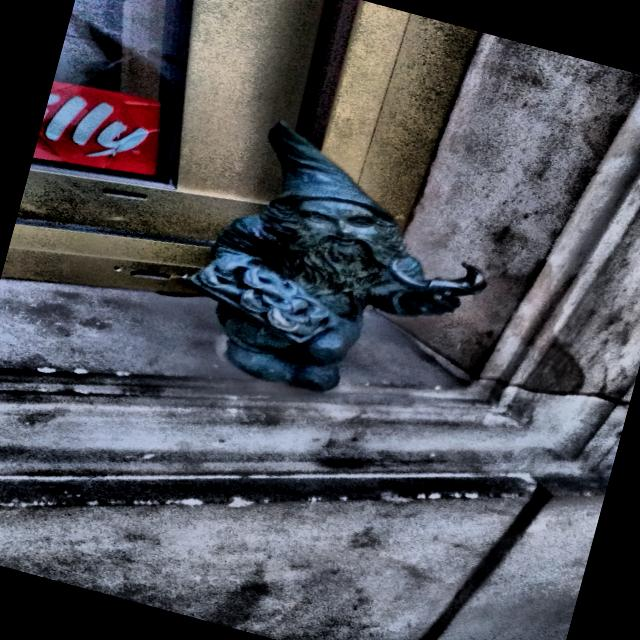Rogalik: (183, 123, 482, 393)
